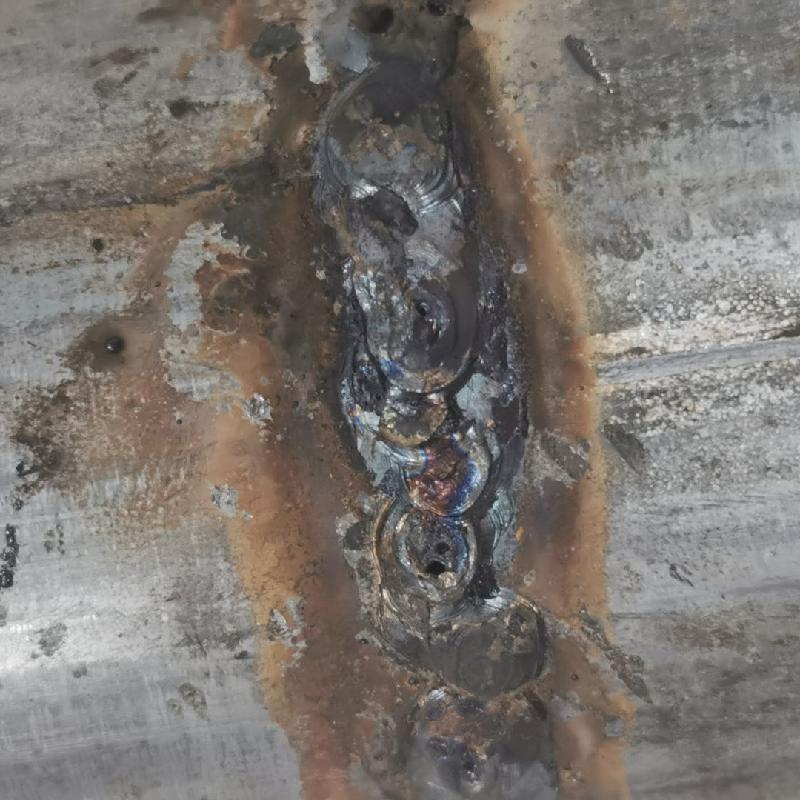Surface_pores: (407, 520, 472, 584)
crater: (328, 287, 553, 742)
wrong_size: (301, 1, 488, 284)
